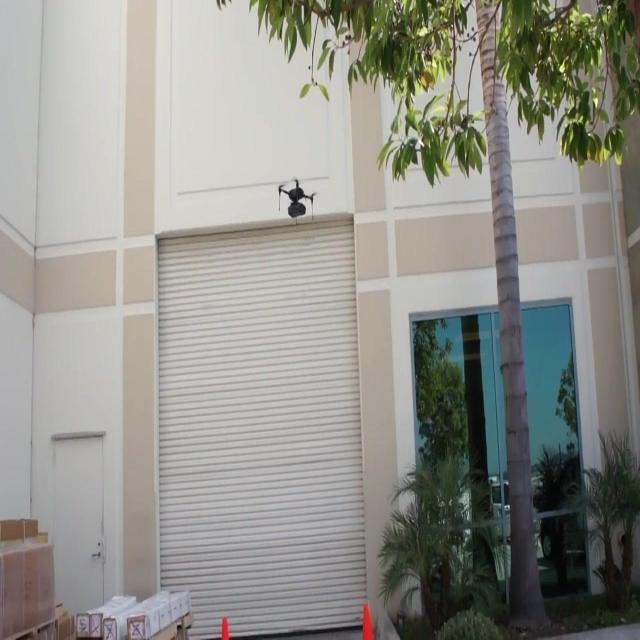drone: (277, 175, 317, 233)
